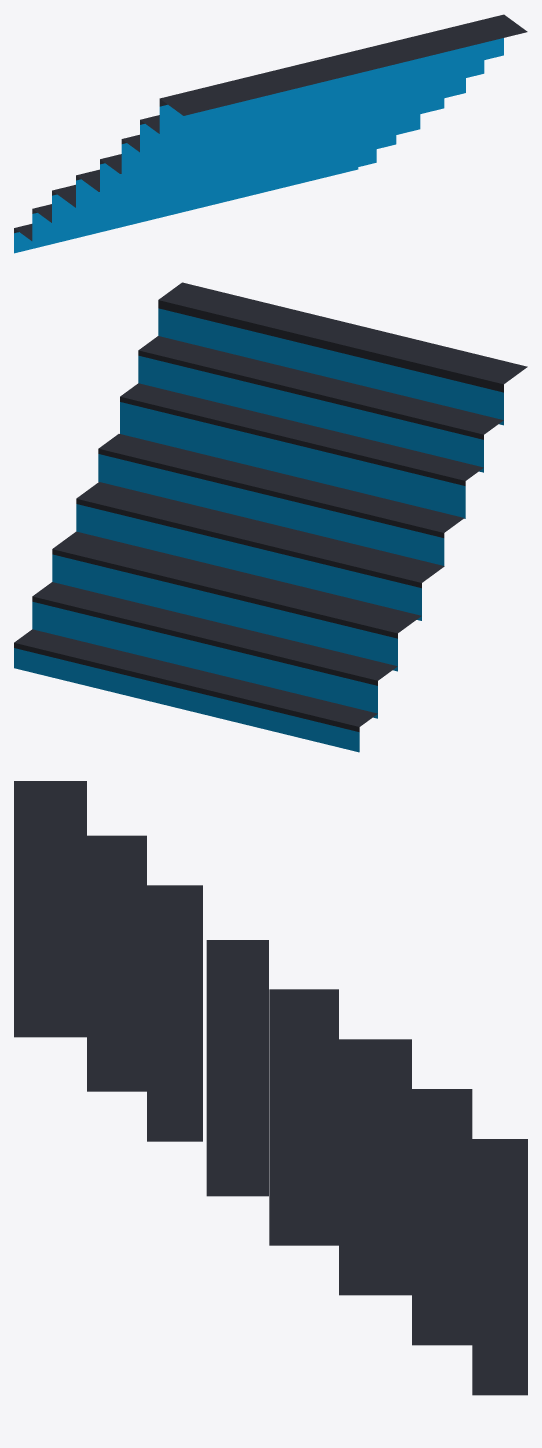
Rendered from Building_BlueStairs.fbx.
3 views of the same model, one above another, from view 1: azimuth 30°, elevation 25°; view 2: azimuth 150°, elevation 25°; view 3: azimuth 270°, elevation 25° (orthographic). The views are drawn at different scales.
Parts seen in each view (by area): view 1: CubeHome.004; view 2: CubeHome.004; view 3: CubeHome.004.
Boxes of the visible parts, x1,y1,x2,y2 form: CubeHome.004: [14, 14, 527, 253]; CubeHome.004: [14, 282, 527, 752]; CubeHome.004: [14, 781, 527, 1395].
Size of the model in its own units: 230 by 166 by 194.
